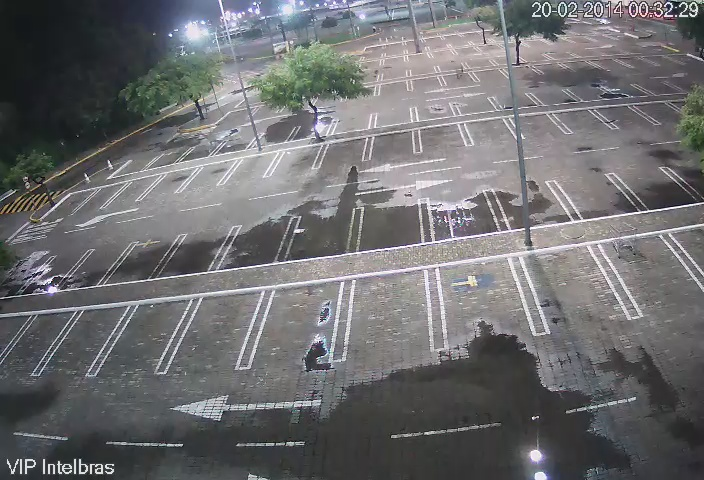lot: (431, 260, 537, 355), (338, 268, 440, 364), (515, 247, 624, 327), (262, 278, 344, 366), (599, 235, 698, 305), (191, 287, 258, 374), (121, 294, 183, 376), (422, 182, 503, 244), (492, 173, 575, 228), (355, 198, 433, 249), (619, 160, 693, 213), (57, 307, 116, 372), (557, 173, 639, 219), (289, 208, 351, 258), (18, 309, 57, 374), (237, 214, 281, 265), (170, 228, 218, 274), (118, 236, 166, 280), (31, 255, 78, 293), (77, 242, 115, 287), (505, 114, 563, 143), (593, 100, 651, 129), (414, 124, 474, 152), (558, 107, 610, 134), (461, 123, 519, 147), (631, 102, 683, 127), (275, 148, 323, 173), (116, 173, 152, 206), (190, 164, 232, 192), (325, 142, 367, 170), (233, 154, 271, 183), (416, 100, 458, 125), (571, 81, 614, 103), (374, 104, 415, 127), (367, 136, 414, 156), (152, 169, 187, 195), (606, 79, 647, 101), (83, 183, 114, 212), (491, 91, 537, 110), (533, 87, 575, 107), (52, 190, 81, 218), (334, 115, 377, 133), (293, 123, 333, 139), (149, 152, 189, 167), (455, 99, 499, 112), (254, 130, 294, 144), (184, 144, 222, 158), (219, 137, 255, 151), (120, 158, 146, 174), (649, 76, 677, 90)
